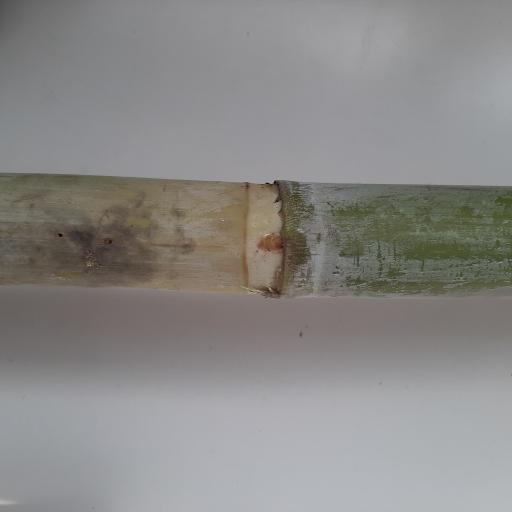Damage_Bud: (254, 232, 284, 253)
